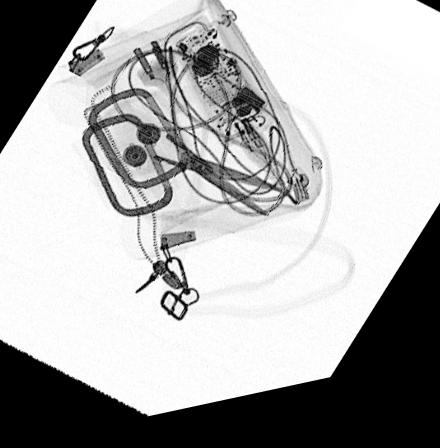Scissors: (145, 138, 293, 234)
